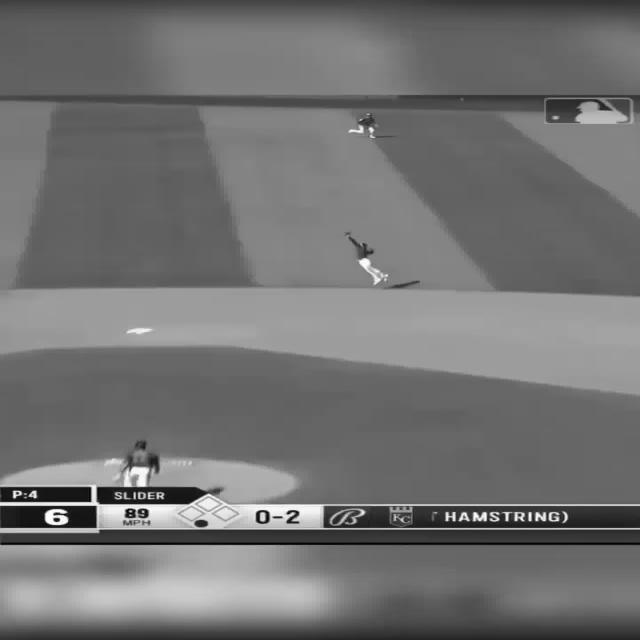shoe: (372, 272, 388, 286), (382, 273, 388, 282)
